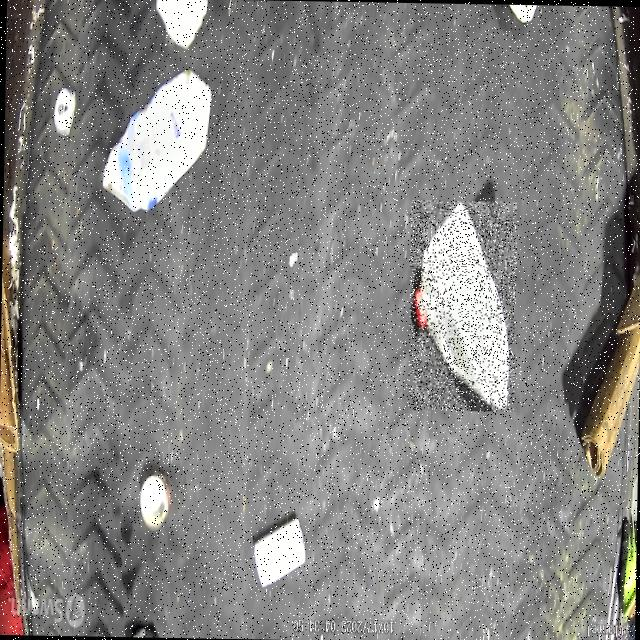milk-jug: (406, 198, 516, 410)
